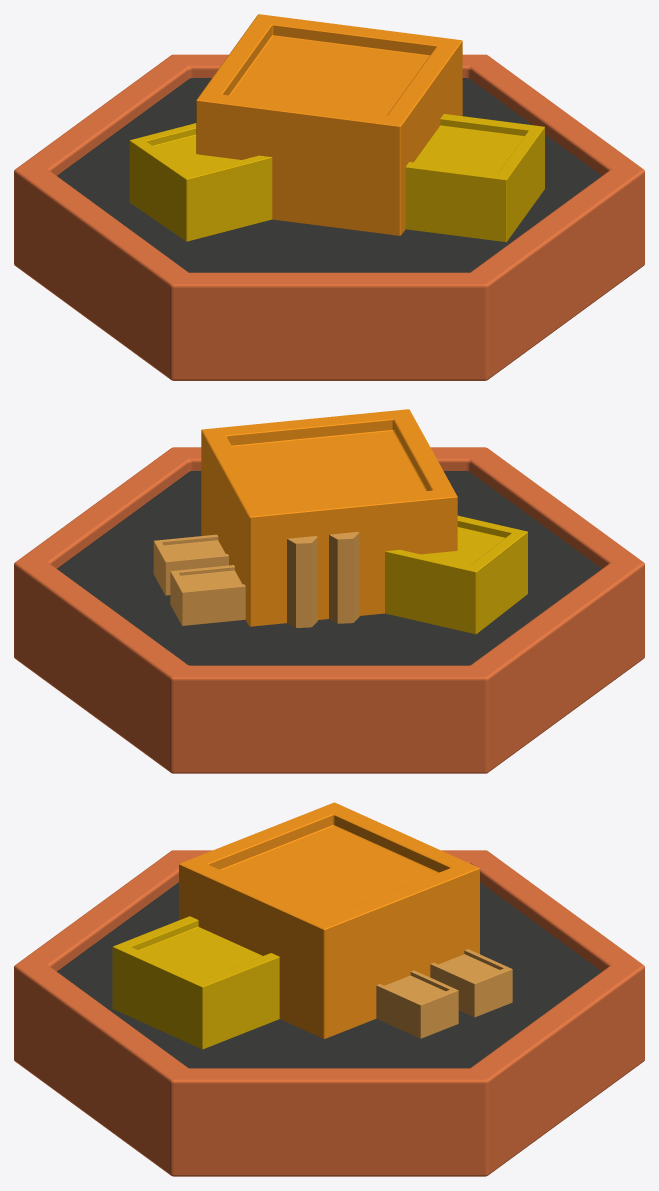
The model's file is Shop2.fbx.
3 views of the same model, one above another, from view 1: azimuth 30°, elevation 25°; view 2: azimuth 150°, elevation 25°; view 3: azimuth 270°, elevation 25° (orthographic).
Visible parts, largest first — view 1: Cylinder.001; view 2: Cylinder.001; view 3: Cylinder.001.
Part boxes in pixels (x1,y1,x2,y2): Cylinder.001: (14,14,644,380); Cylinder.001: (14,409,644,773); Cylinder.001: (14,802,644,1176).
Bounding box in the file's own units: 173 × 68.38 × 200.
